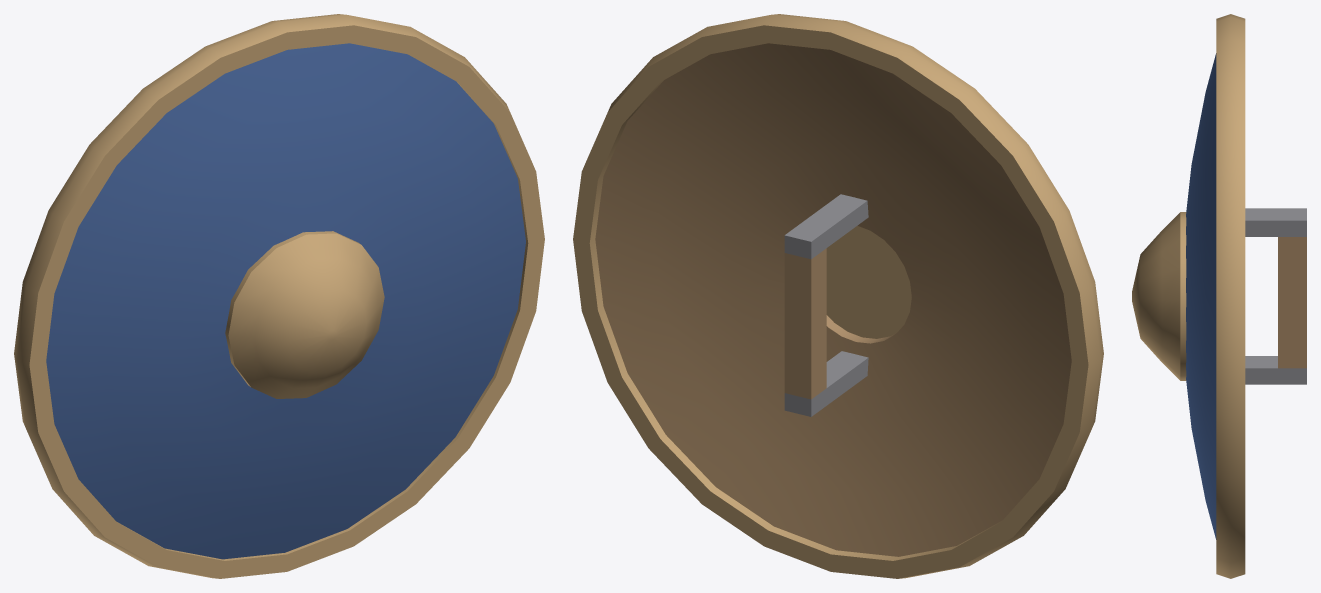
Rendered from parma.glb.
The picture shows the model from 3 angles, left to right: view 1: azimuth 30°, elevation 25°; view 2: azimuth 150°, elevation 25°; view 3: azimuth 270°, elevation 25°; orthographic projection. The views are drawn at different scales.
Parts seen in each view (by area): view 1: OUT; view 2: OUT; view 3: OUT.
Boxes of the visible parts, <box> form: OUT: <box>14,14,544,578</box>; OUT: <box>573,14,1103,578</box>; OUT: <box>1132,14,1306,578</box>.
Bounding box in the file's own units: 0.47 × 0.47 × 0.145.
